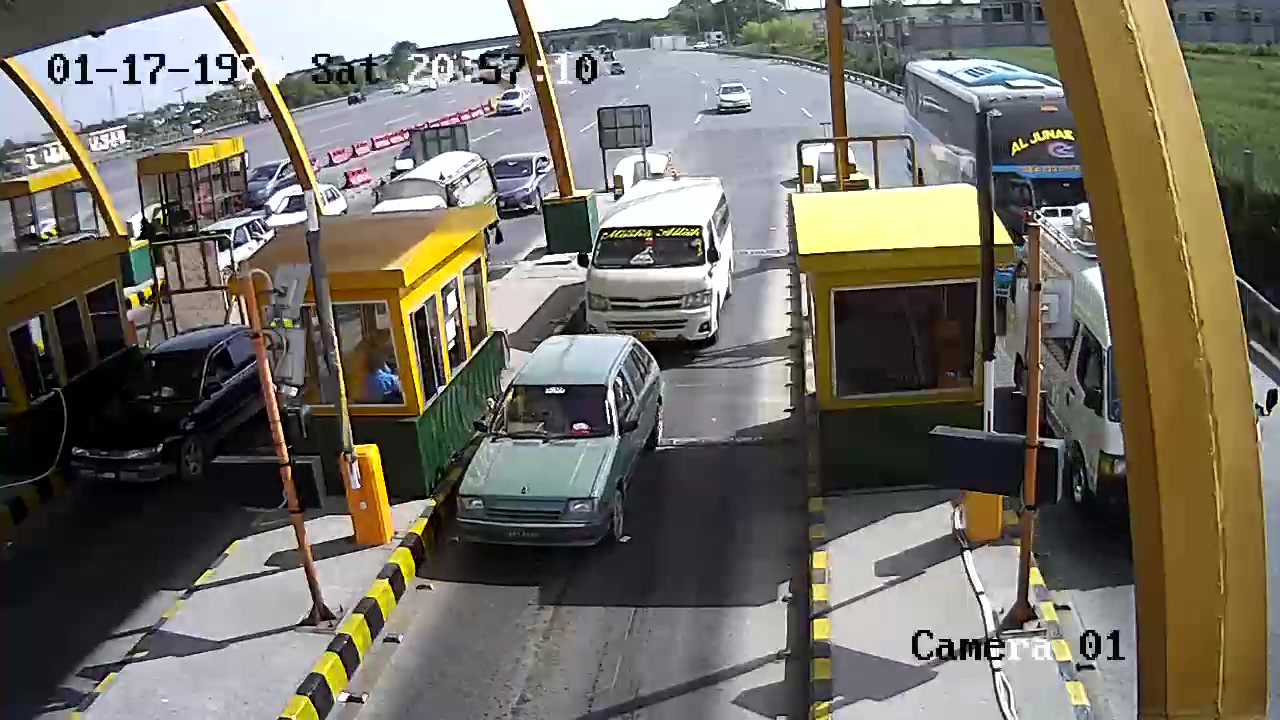F1: (449, 331, 674, 607)
